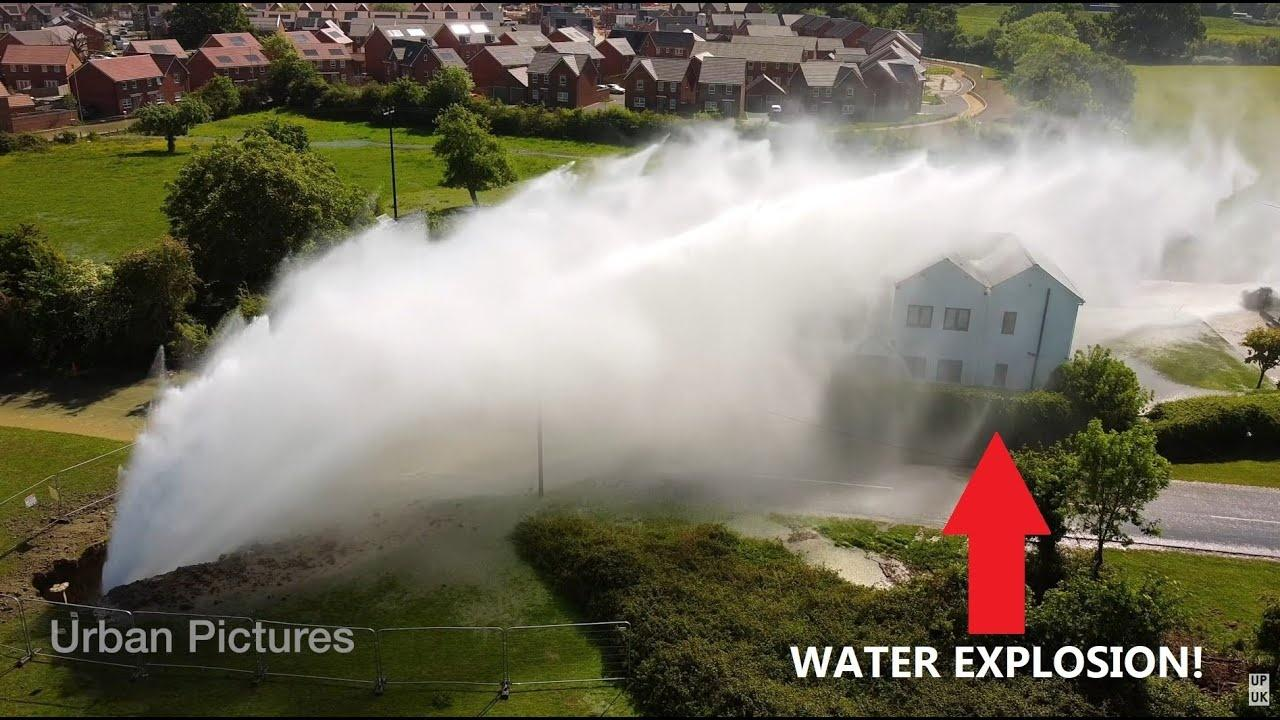pipe burst: (96, 126, 1280, 596)
